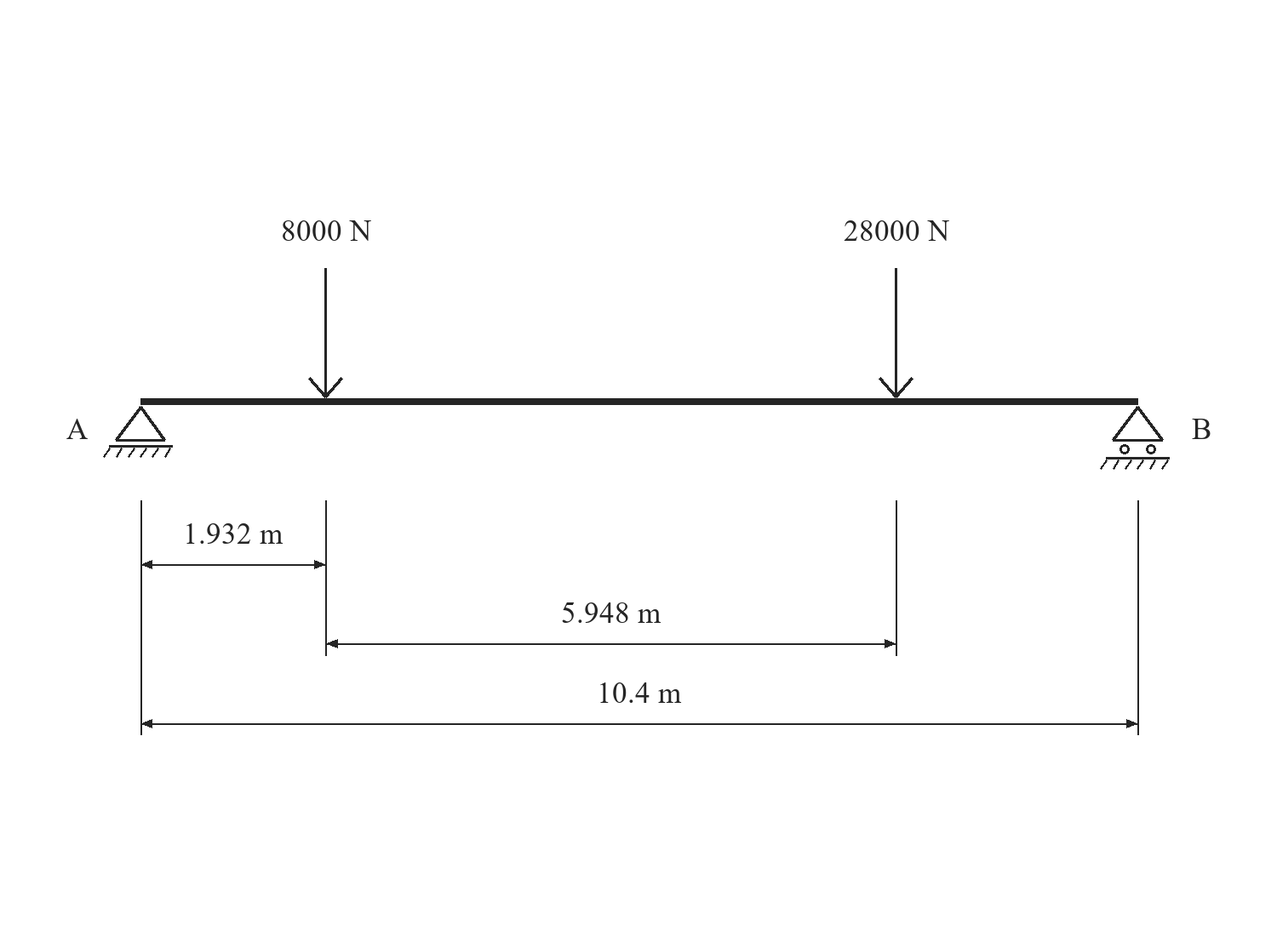pin_support: (103, 406, 173, 458)
point_load: (308, 268, 343, 398), (879, 268, 913, 398)
roller_support: (1100, 406, 1170, 470)
